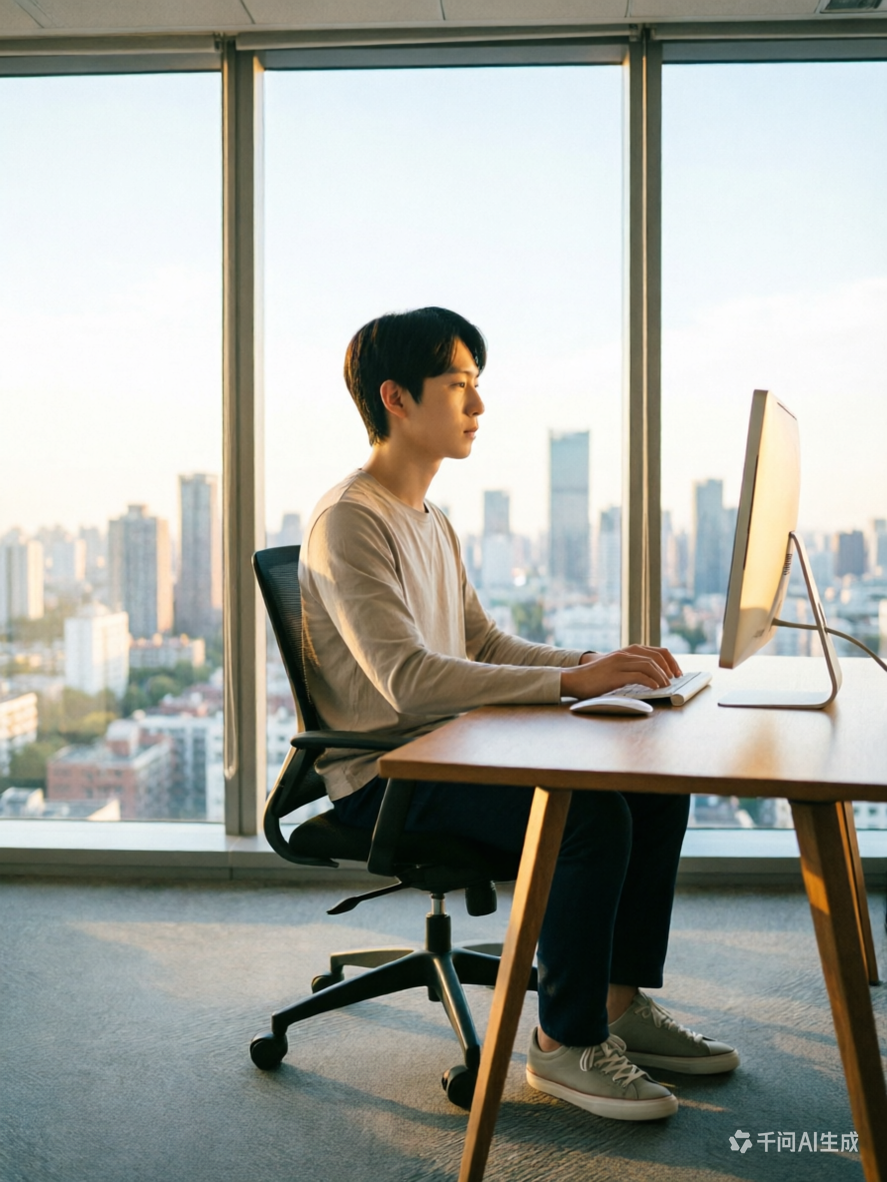sitting_good: (299, 315, 720, 1108)
